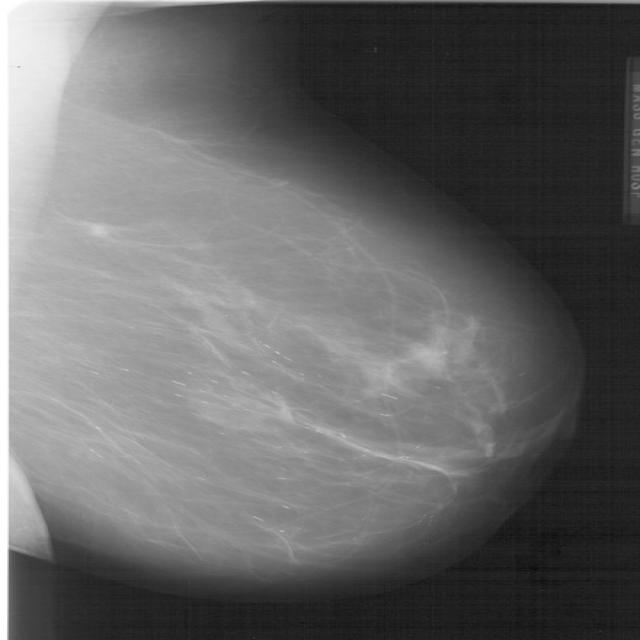tumour: (77, 220, 115, 239)
